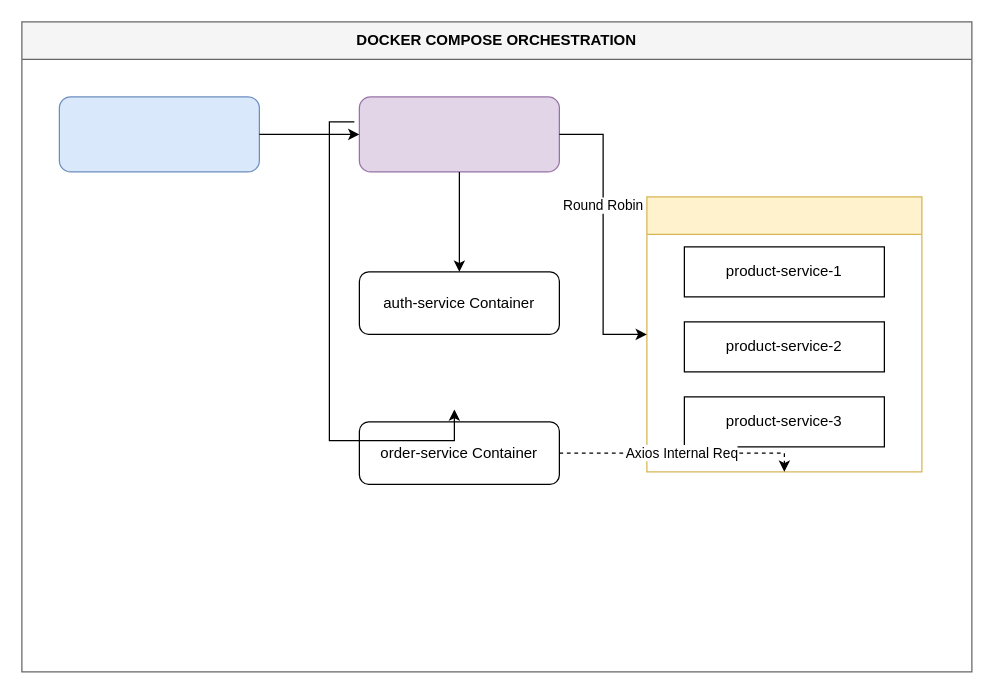
The diagram is 994 pixels wide and 694 high, and some of its shapes have lost their labels. Here are the shapes that lost their labels. From the top down, the box of each, then its label:
(58, 96, 259, 172): Vite Frontend Container (frontend Folder)
(358, 96, 559, 172): API Gateway Container (api-gateway Folder)
(646, 196, 922, 472): Product Service Cluster (replicas: 3)
